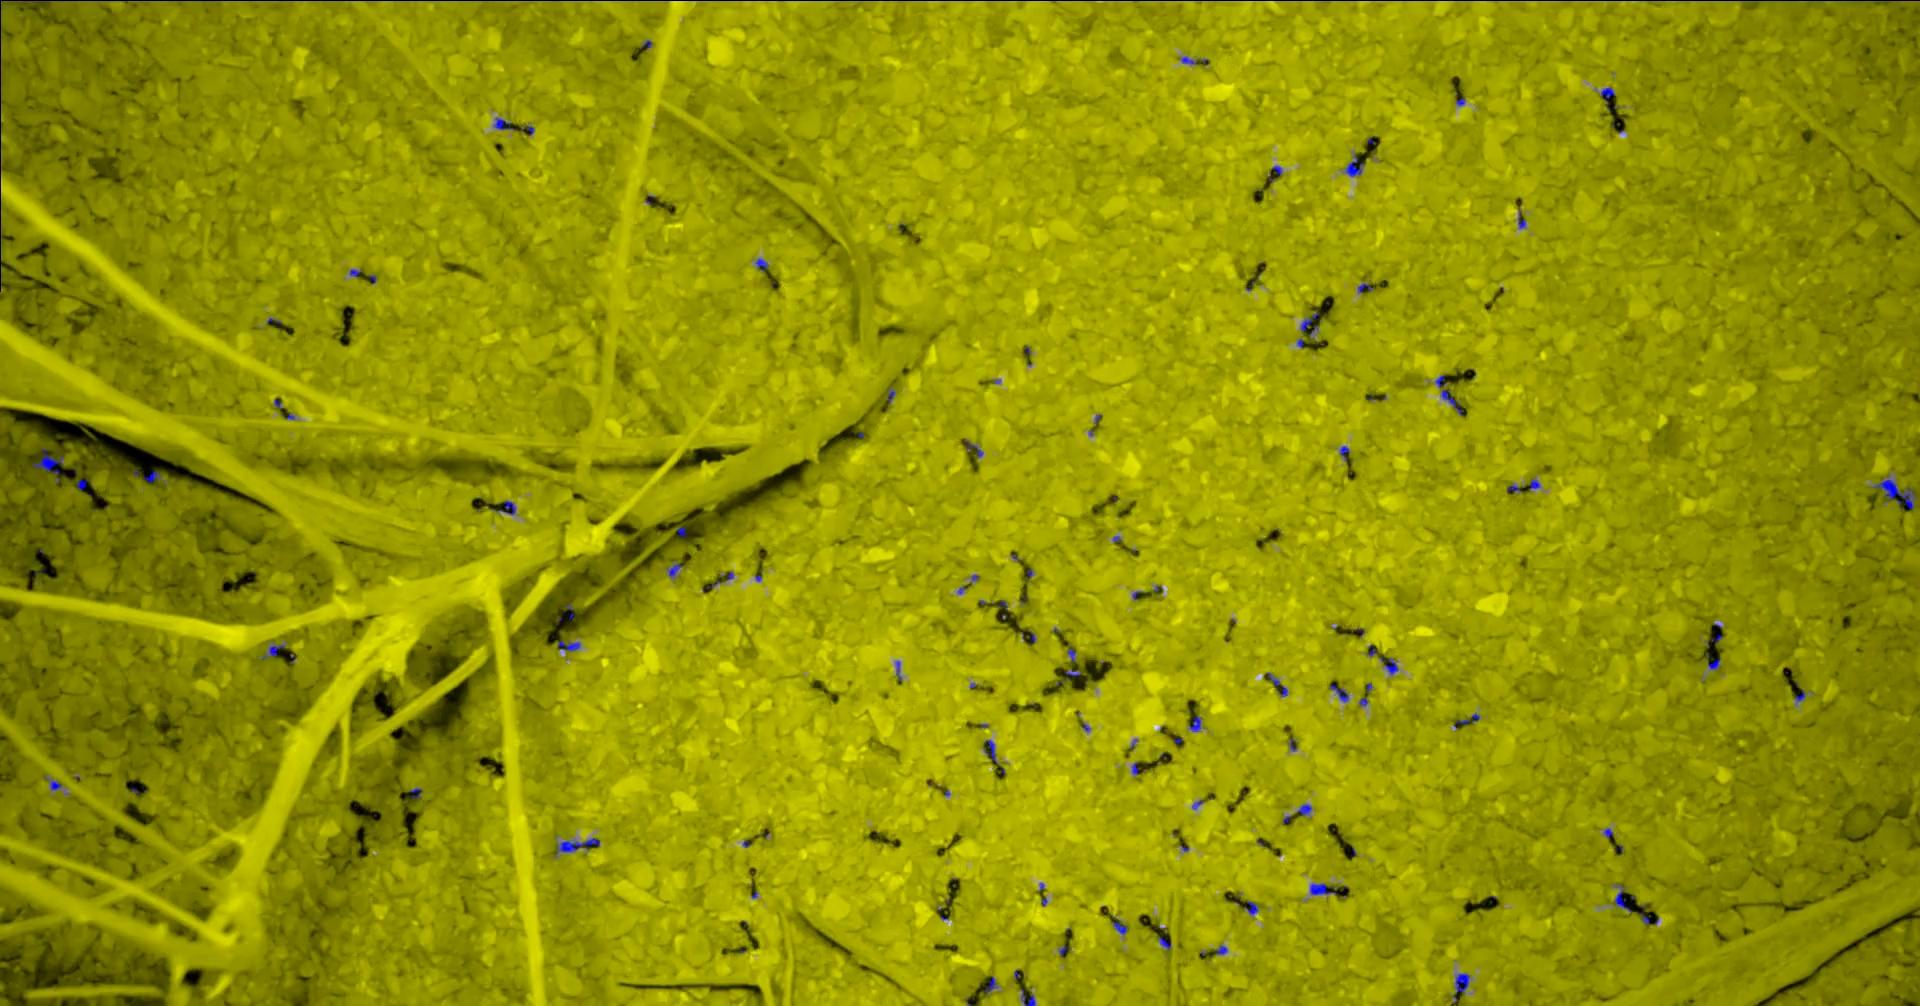ant: (1874, 479, 1917, 509), (34, 447, 65, 483), (559, 837, 601, 852), (1443, 389, 1464, 415), (1, 0, 65, 9), (1267, 672, 1289, 696), (1617, 884, 1634, 913), (707, 572, 735, 589), (1346, 154, 1365, 177), (1302, 311, 1319, 333), (1382, 655, 1399, 674), (1331, 683, 1350, 701), (985, 739, 999, 763), (1603, 86, 1617, 109), (263, 644, 286, 658), (1310, 883, 1338, 894), (44, 775, 63, 790), (1021, 988, 1037, 1005), (498, 500, 517, 514), (1457, 973, 1470, 992), (559, 639, 582, 650), (495, 117, 516, 130), (985, 976, 999, 993), (1457, 713, 1481, 723), (1244, 901, 1260, 915), (1112, 921, 1129, 934), (145, 470, 163, 481), (1190, 715, 1203, 730), (1298, 803, 1313, 815), (757, 258, 770, 271), (411, 788, 423, 798)
